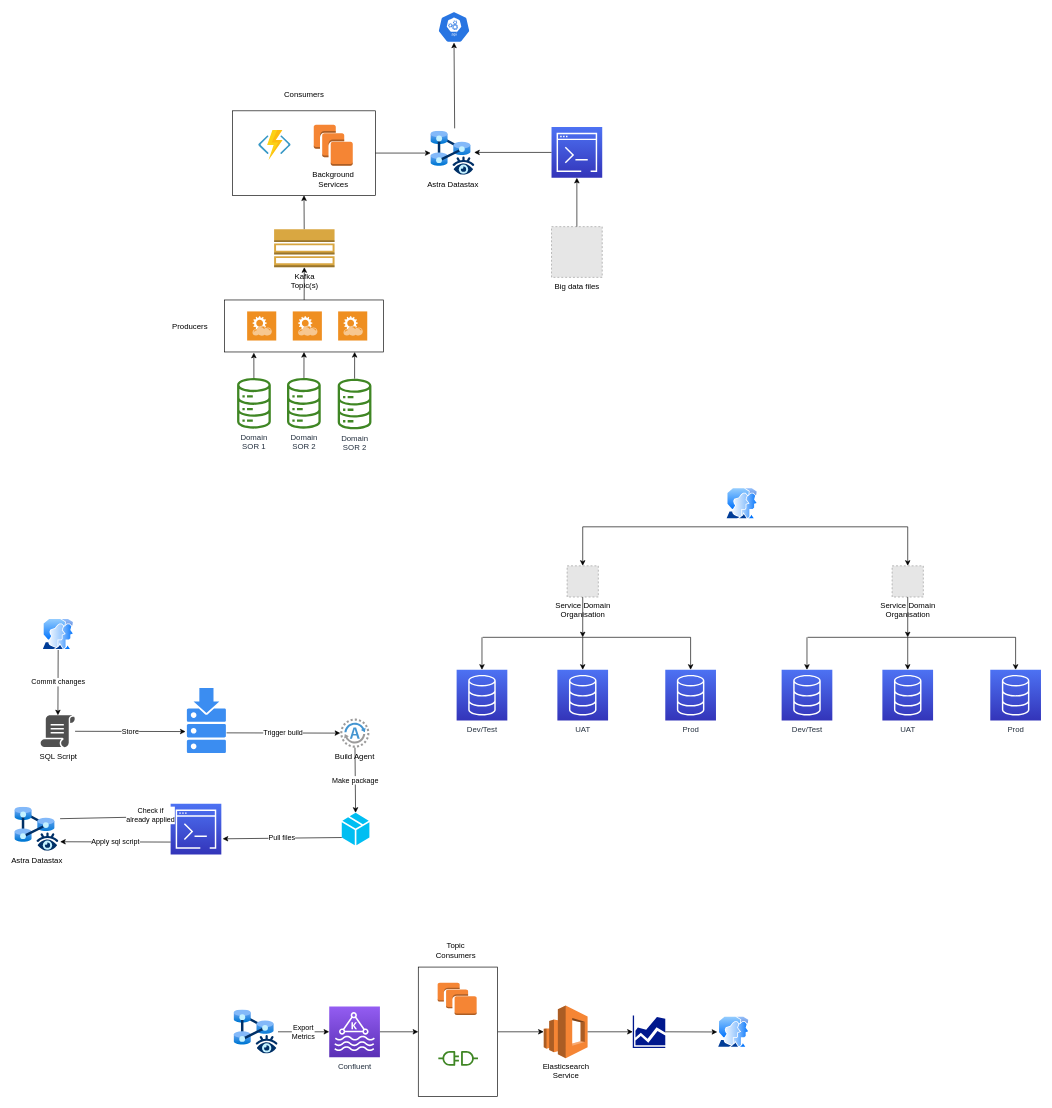
This 1052x1108 diagram has some shape labels left out. Grey dashed boxes stand in for pictures. The box of each missing label's shape, as (x1, y1, x2, y2) in pixels:
Astra CLI: (170, 803, 221, 854)
AZ Function: (258, 130, 291, 160)
Custom Apps: (437, 982, 477, 1015)
DataStax: (233, 1009, 278, 1054)
DS Bulk: (551, 126, 602, 178)
Elastic Service Sink Connector: (438, 1051, 478, 1066)
Kibana: (632, 1015, 665, 1048)
Package: (341, 812, 369, 845)
Repository: (187, 688, 226, 753)
Service Domain APIs: (437, 11, 470, 43)
